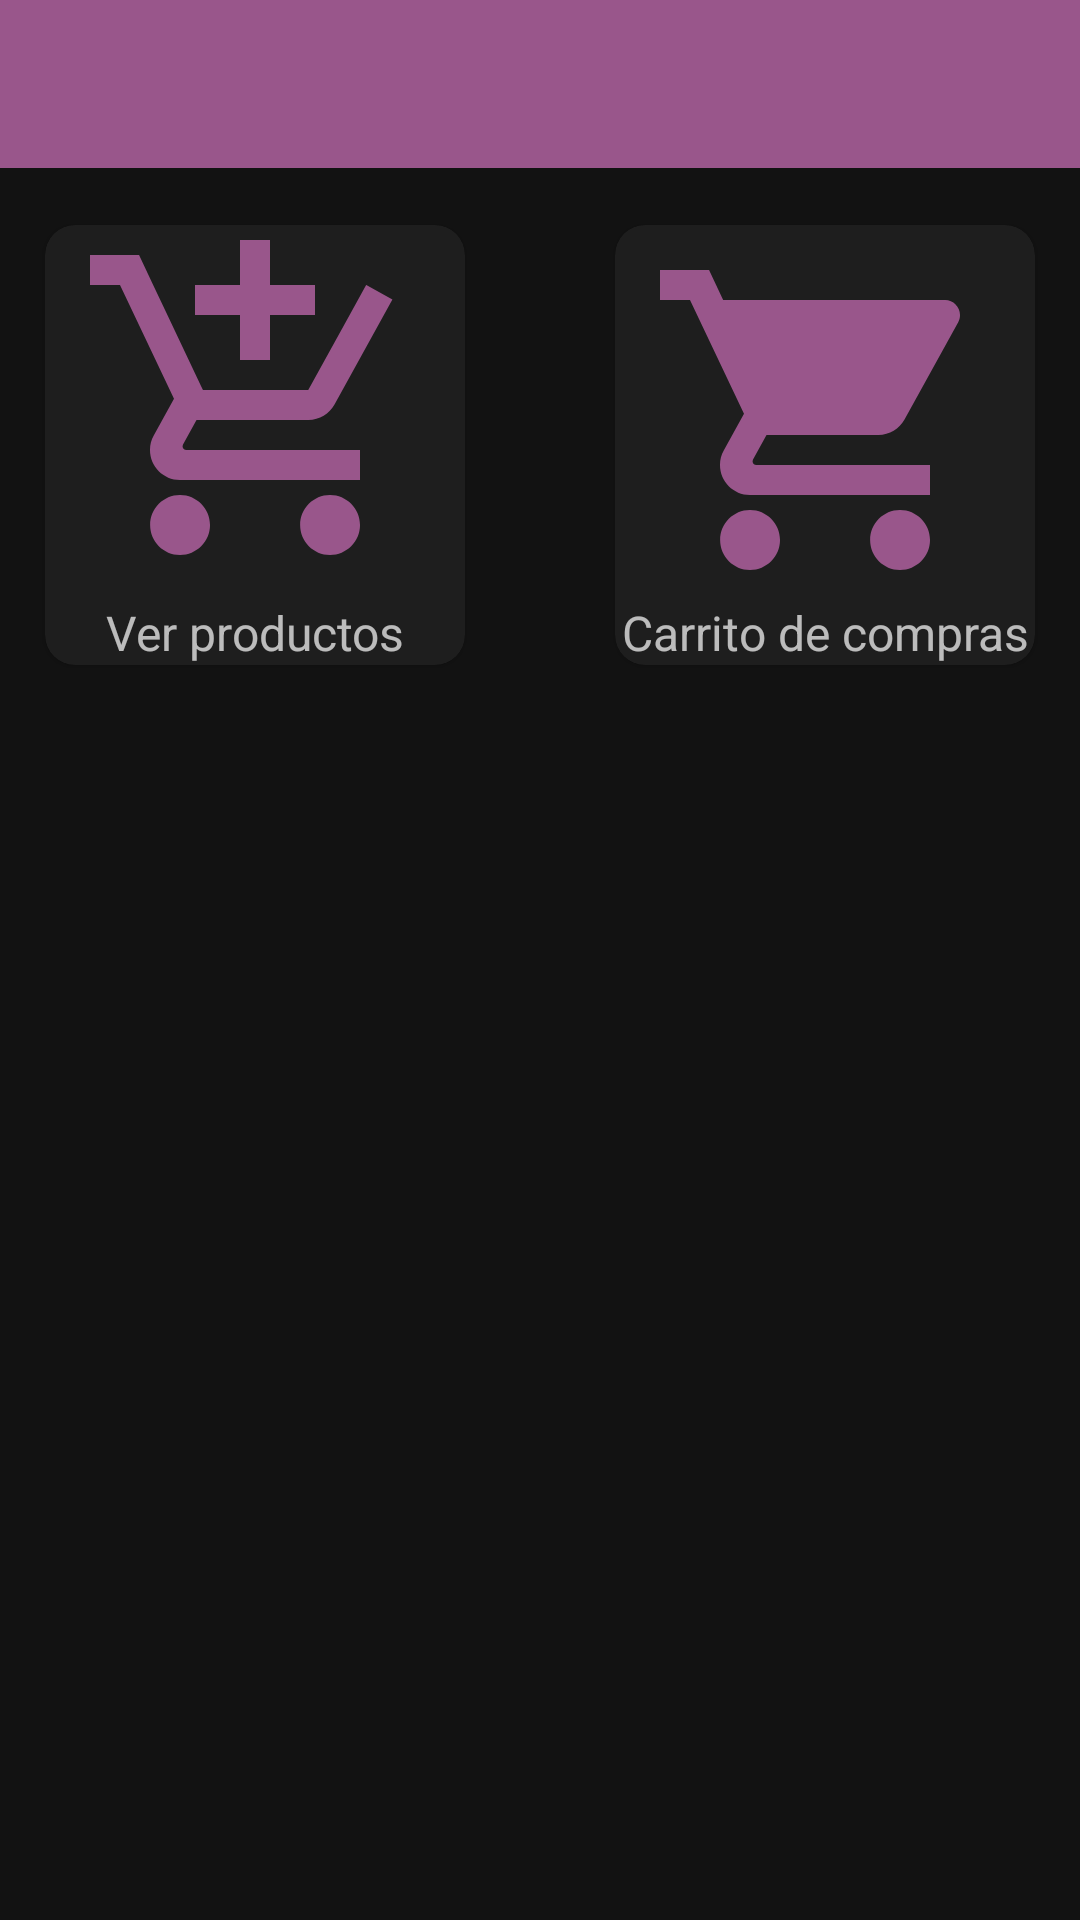

Screen size 1080w x 1920h. Icon name, then its box in pixels as bbox=(x1, y1, x2, y2):
add cart: bbox=(90, 240, 392, 555)
